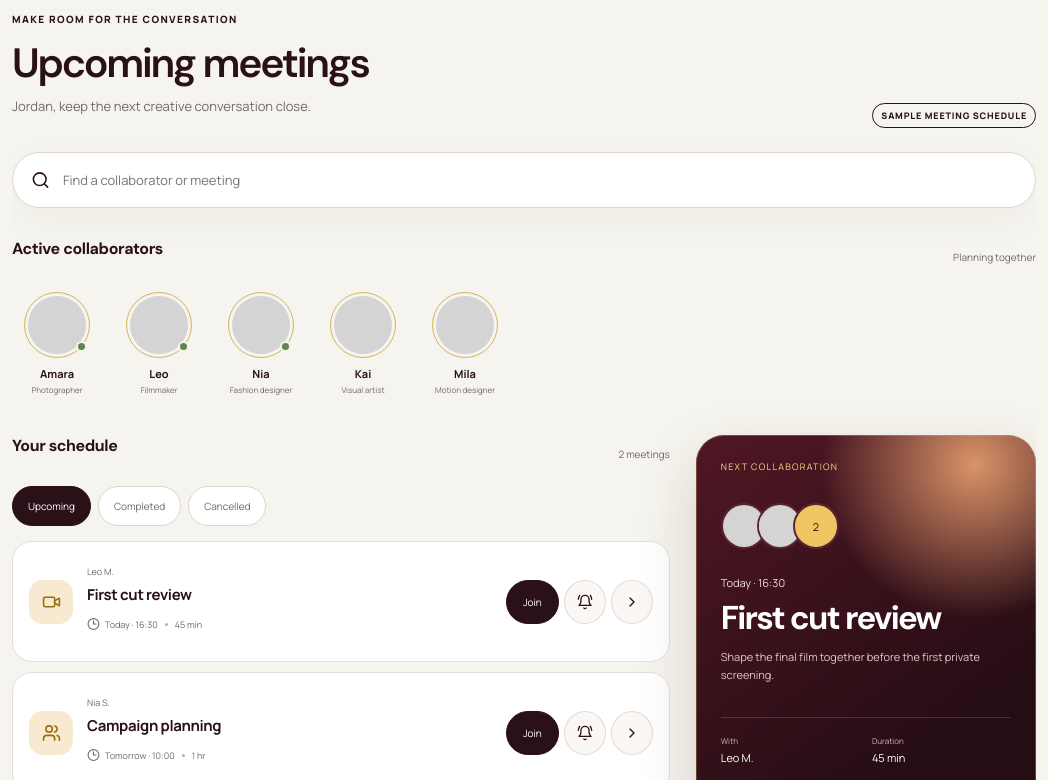
Test: Dashboard meetings › labels joining as a preview and never implies a live meeting
This screenshot has width=1048, height=780.
Click the button with aria-label "Join First cut review": (532, 602) [506,580,559,624]
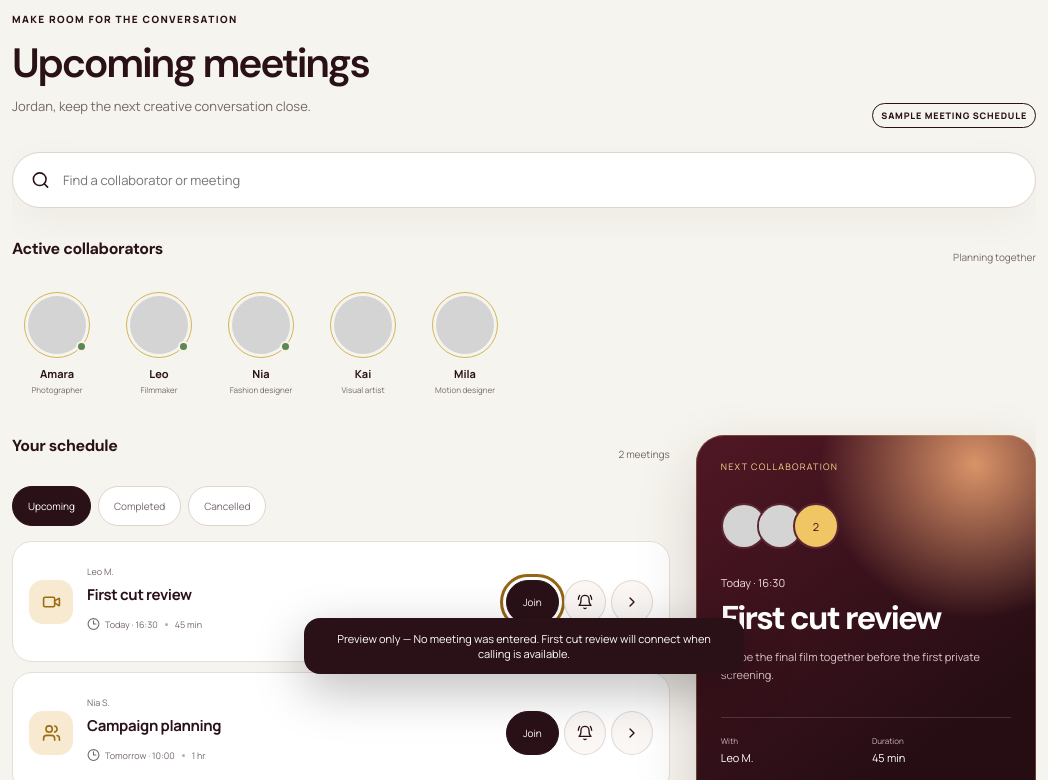
expect the message shows "Preview only": met, box [337,631,711,661]
expect the message shows "No meeting was entered": met, box [337,631,711,661]
